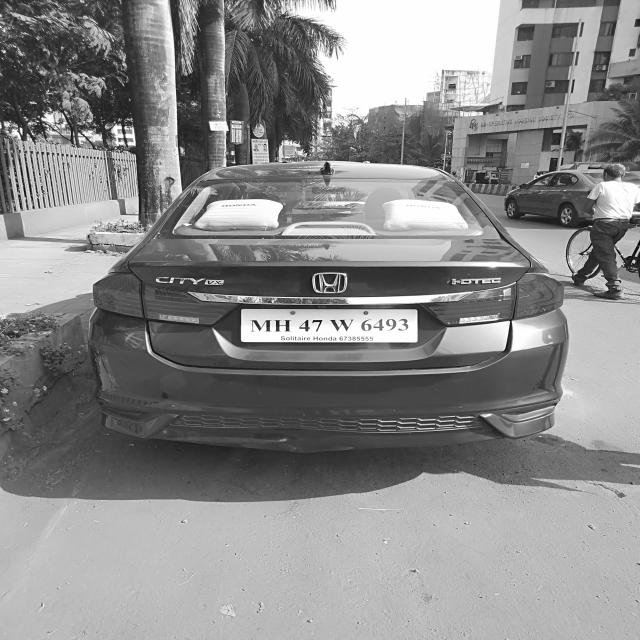car: (76, 150, 562, 448)
license-plate: (240, 300, 425, 354)
